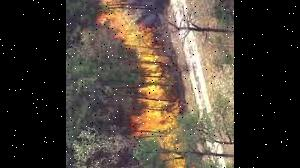fire: (72, 0, 199, 168)
